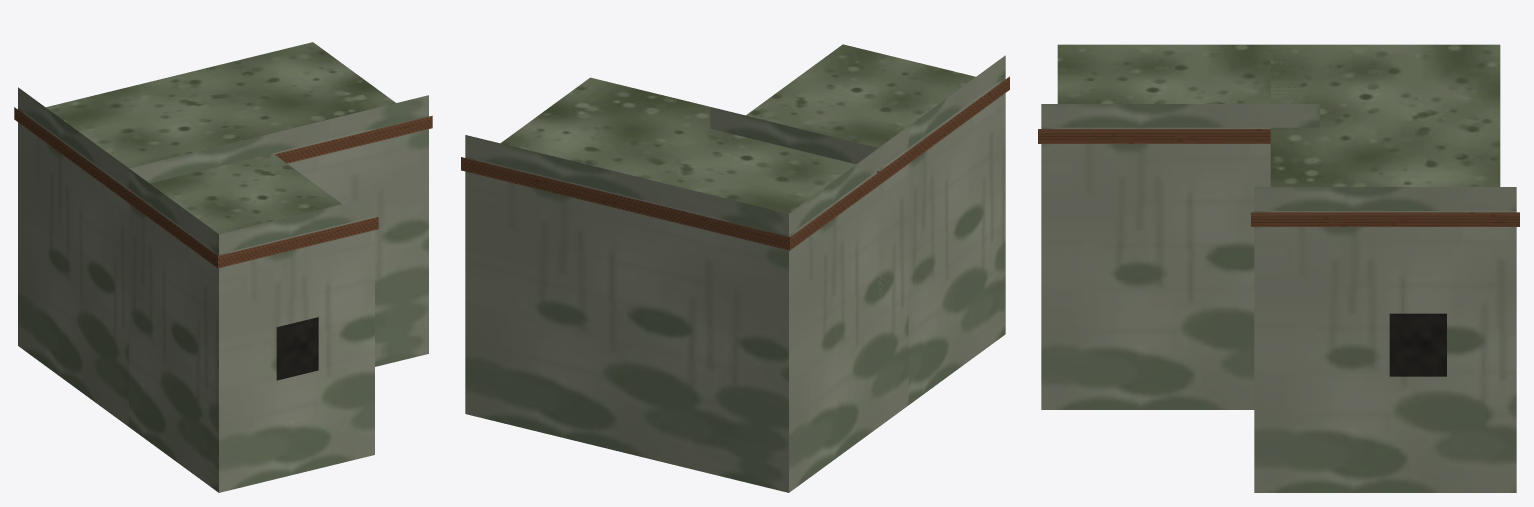
The model's file is ae_jungle_stone_medium_court_lod2.glb.
The picture shows the model from 3 angles, left to right: view 1: azimuth 30°, elevation 25°; view 2: azimuth 150°, elevation 25°; view 3: azimuth 270°, elevation 25°; orthographic projection. The views are drawn at different scales.
Parts seen in each view (by area): view 1: ae_jungle_stone_medium_court_lod2; view 2: ae_jungle_stone_medium_court_lod2; view 3: ae_jungle_stone_medium_court_lod2.
Part boxes in pixels (box(x1,y1,x2,y2)): ae_jungle_stone_medium_court_lod2: box(14, 42, 432, 492); ae_jungle_stone_medium_court_lod2: box(461, 44, 1009, 492); ae_jungle_stone_medium_court_lod2: box(1038, 44, 1519, 492).
Size of the model in its own units: 5.08 by 4.12 by 5.88.
Materials: 1 (1 with a texture image).
